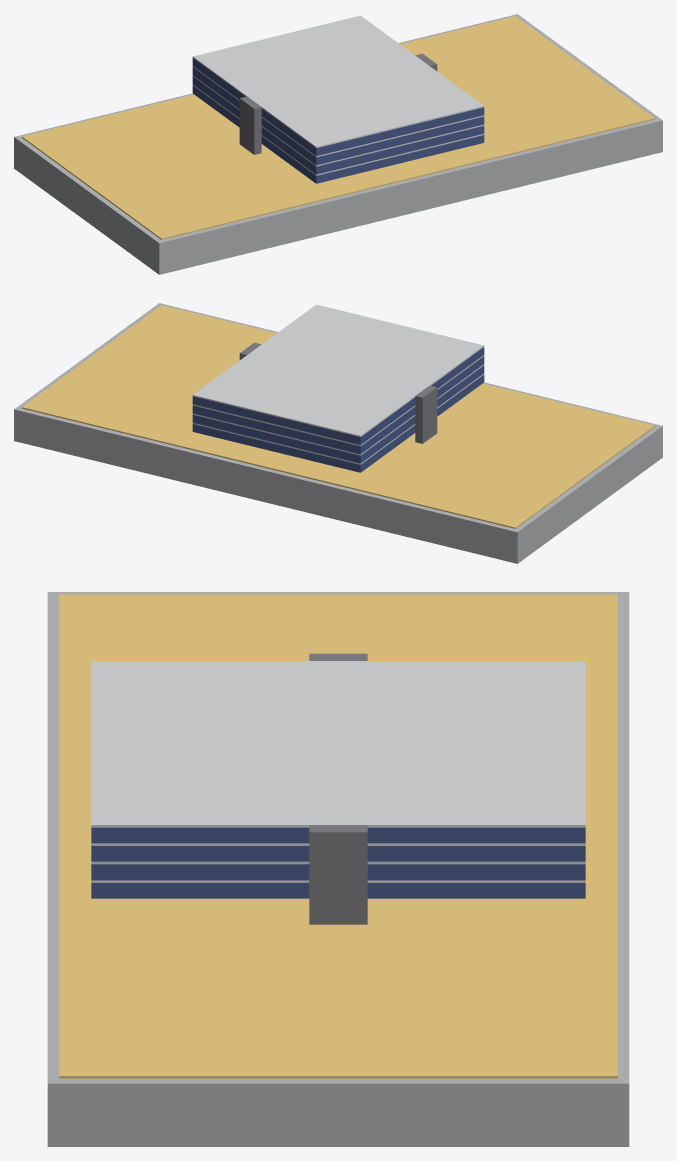
File: rover28_solar_mount_m.glb
The picture shows the model from 3 angles, top to bottom: view 1: azimuth 30°, elevation 25°; view 2: azimuth 150°, elevation 25°; view 3: azimuth 270°, elevation 25°; orthographic projection. The views are drawn at different scales.
Visible parts, largest first — view 1: base_foil, base, panel_frames, panel_stack, stow_clamps; view 2: base_foil, base, panel_frames, panel_stack, stow_clamps; view 3: base_foil, panel_frames, base, panel_stack, stow_clamps.
Part boxes in pixels (left/top/right/bottom): base_foil: left=22, top=16, right=654, bottom=239; base: left=14, top=14, right=662, bottom=274; panel_frames: left=192, top=15, right=484, bottom=175; panel_stack: left=192, top=58, right=484, bottom=183; stow_clamps: left=239, top=53, right=437, bottom=154; base_foil: left=22, top=305, right=654, bottom=528; base: left=14, top=303, right=662, bottom=563; panel_frames: left=192, top=304, right=484, bottom=464; panel_stack: left=192, top=347, right=484, bottom=472; stow_clamps: left=239, top=342, right=437, bottom=443; base_foil: left=59, top=594, right=617, bottom=1078; panel_frames: left=91, top=661, right=585, bottom=882; base: left=47, top=592, right=629, bottom=1146; panel_stack: left=91, top=827, right=585, bottom=898; stow_clamps: left=309, top=653, right=367, bottom=924.
Size of the model in its own units: 2 by 0.3 by 1.
